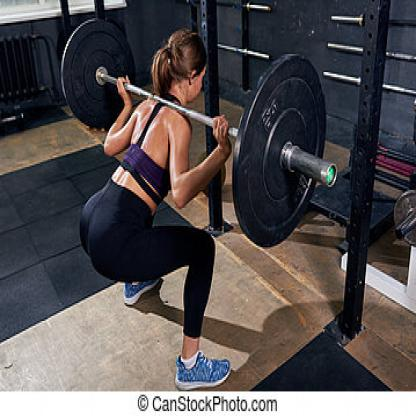Barbell: (222, 44, 332, 252)
